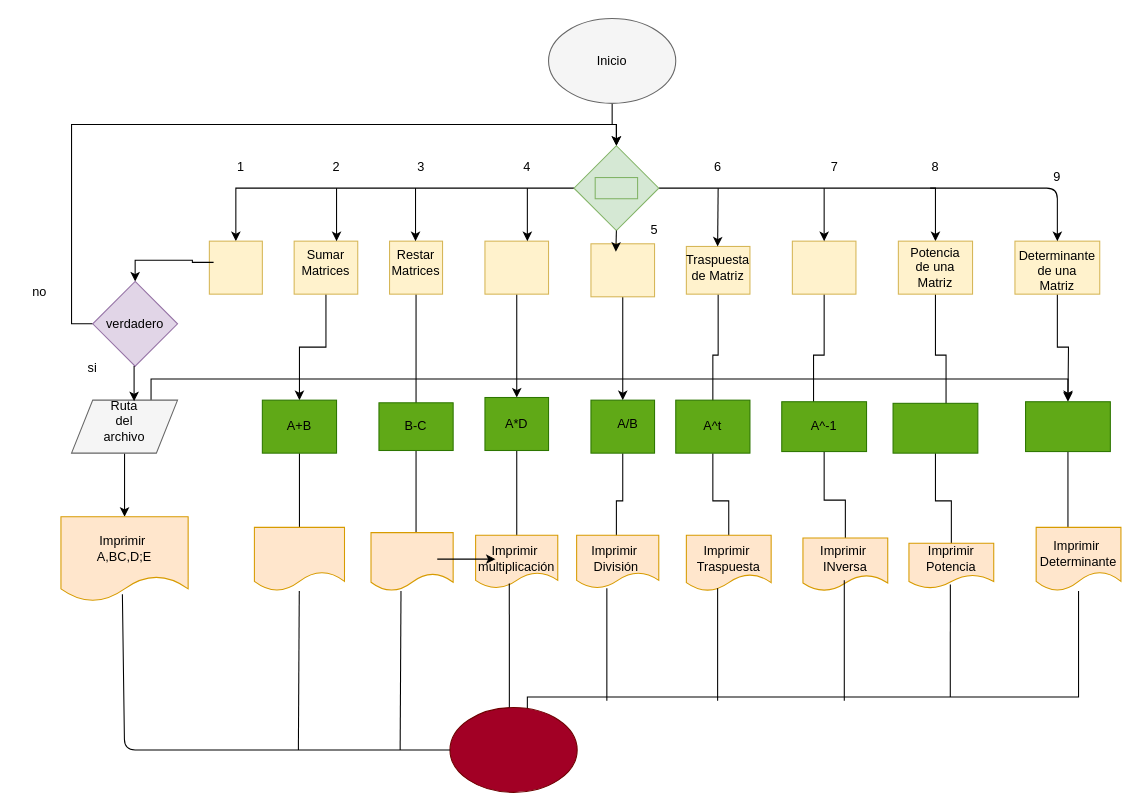
The diagram is 1139 pixels wide and 811 high, and some of its shapes have lost their labels. Here are the shapes that lost their labels. From the top down, the centre of each, then its label:
At (616,187): "opcion".
At (235,267): "Cargar Matrices".
At (516,267): "Multiplicar Matrices".
At (622,270): "Dividir Matrices".
At (823,267): "Matriz Inversa".
At (935,427): "A^n".
At (1067,426): "det A".
At (298,558): "Imprimir Suma".
At (411,561): "Imprimir Resta".
At (513,749): "Fin".
